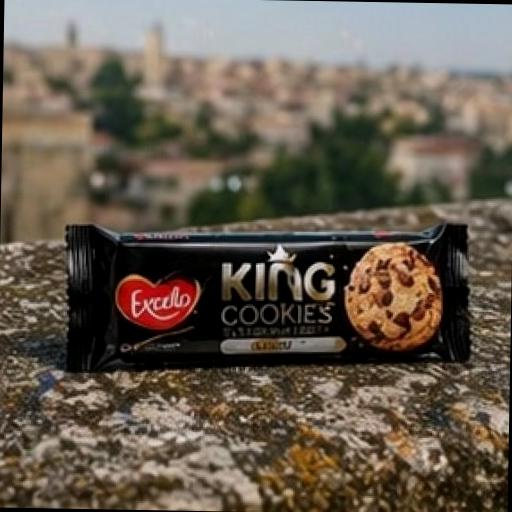king-cooking: (28, 155, 512, 459)
